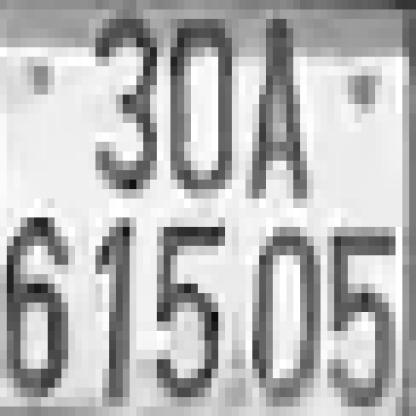0: (245, 218, 314, 388), (170, 19, 232, 189)
1: (96, 208, 143, 388)
3: (89, 19, 157, 198)
5: (320, 227, 388, 397), (157, 218, 218, 388)
6: (7, 208, 68, 388)
A: (245, 19, 307, 198)
